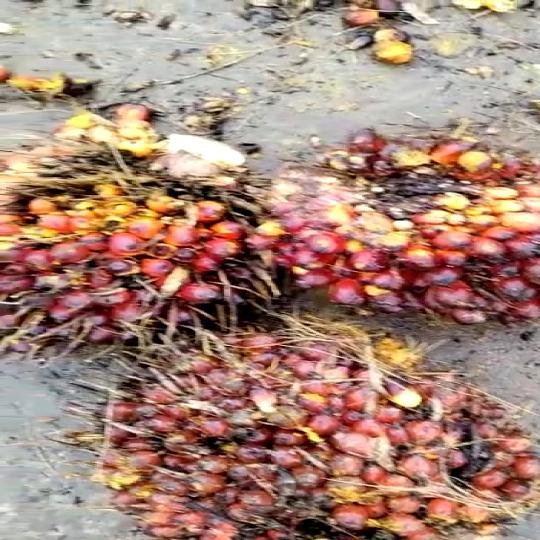masak: (79, 334, 540, 540), (0, 100, 300, 340), (259, 119, 540, 339)
